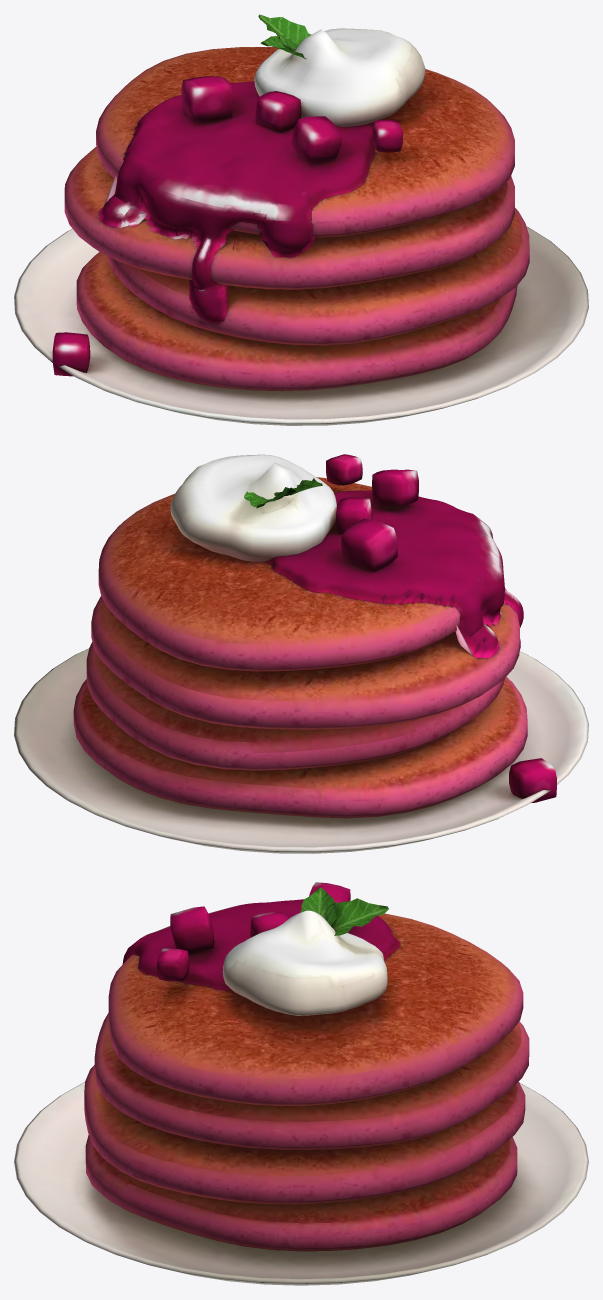
File: pancake--beet-puree.glb
The picture shows the model from 3 angles, top to bottom: view 1: azimuth 30°, elevation 25°; view 2: azimuth 150°, elevation 25°; view 3: azimuth 270°, elevation 25°; orthographic projection.
Parts seen in each view (by area): view 1: pancake_beet-puree; view 2: pancake_beet-puree; view 3: pancake_beet-puree.
Boxes of the visible parts, x1,y1,x2,y2 form: pancake_beet-puree: (14, 14, 588, 425); pancake_beet-puree: (14, 454, 588, 853); pancake_beet-puree: (14, 882, 588, 1285).
Bounding box in the file's own units: 1.15 × 0.6336 × 1.14.
1 material, 1 textured.
